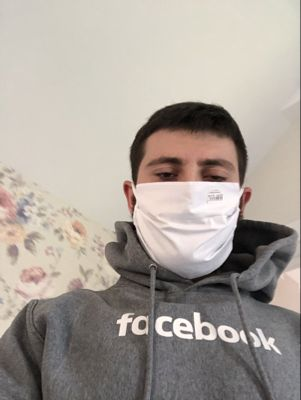with-mask: (116, 115, 248, 286)
